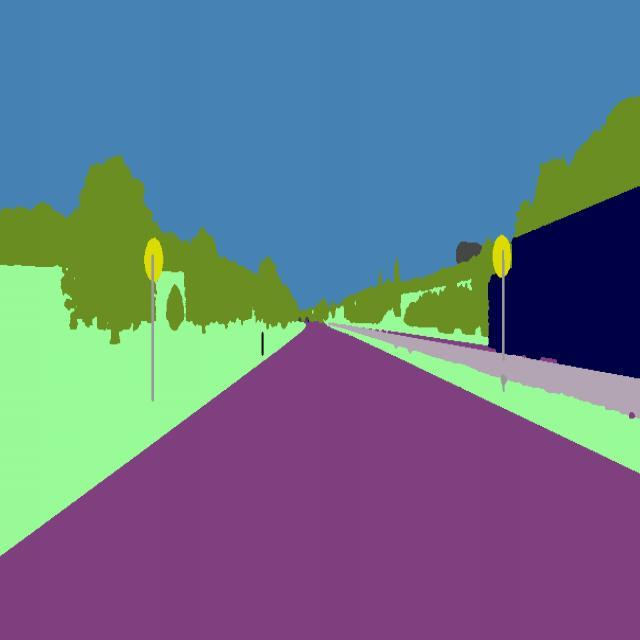safe: (486, 180, 640, 383)
